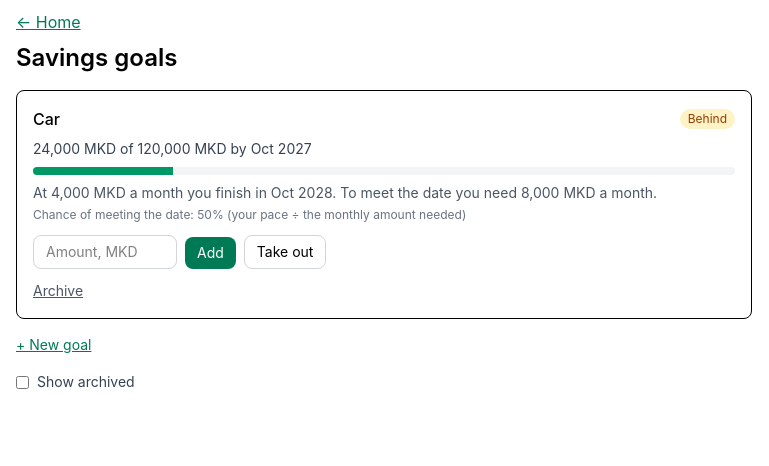
it: GoalsPage › shows the error from the server
Type "999" into the field named "Amount for Car" at (105, 252), box left=33, top=235, right=177, bottom=269
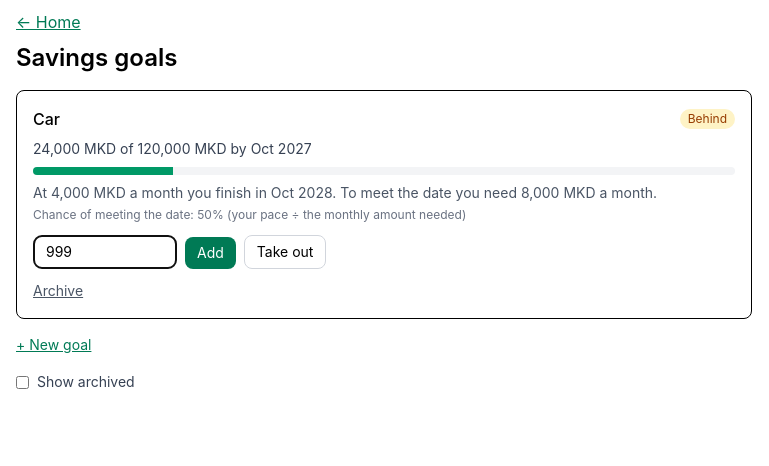
Click the button with aria-label "Take money out of Car" at (285, 252), box left=244, top=235, right=326, bottom=269
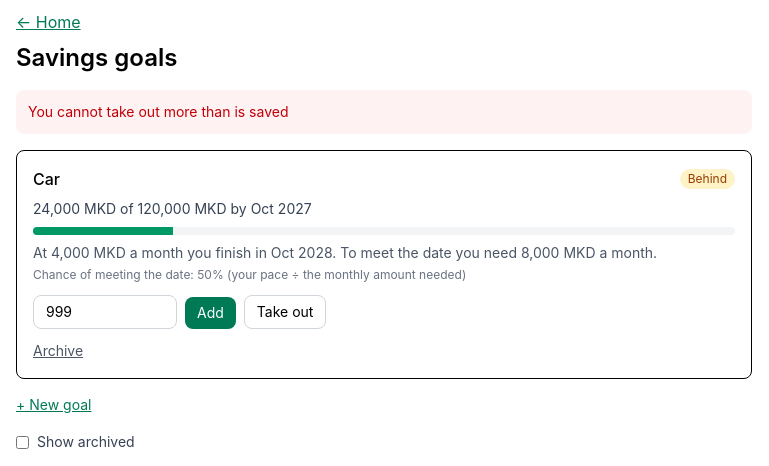
Now the message shows "more than is saved", box left=28, top=103, right=288, bottom=120
